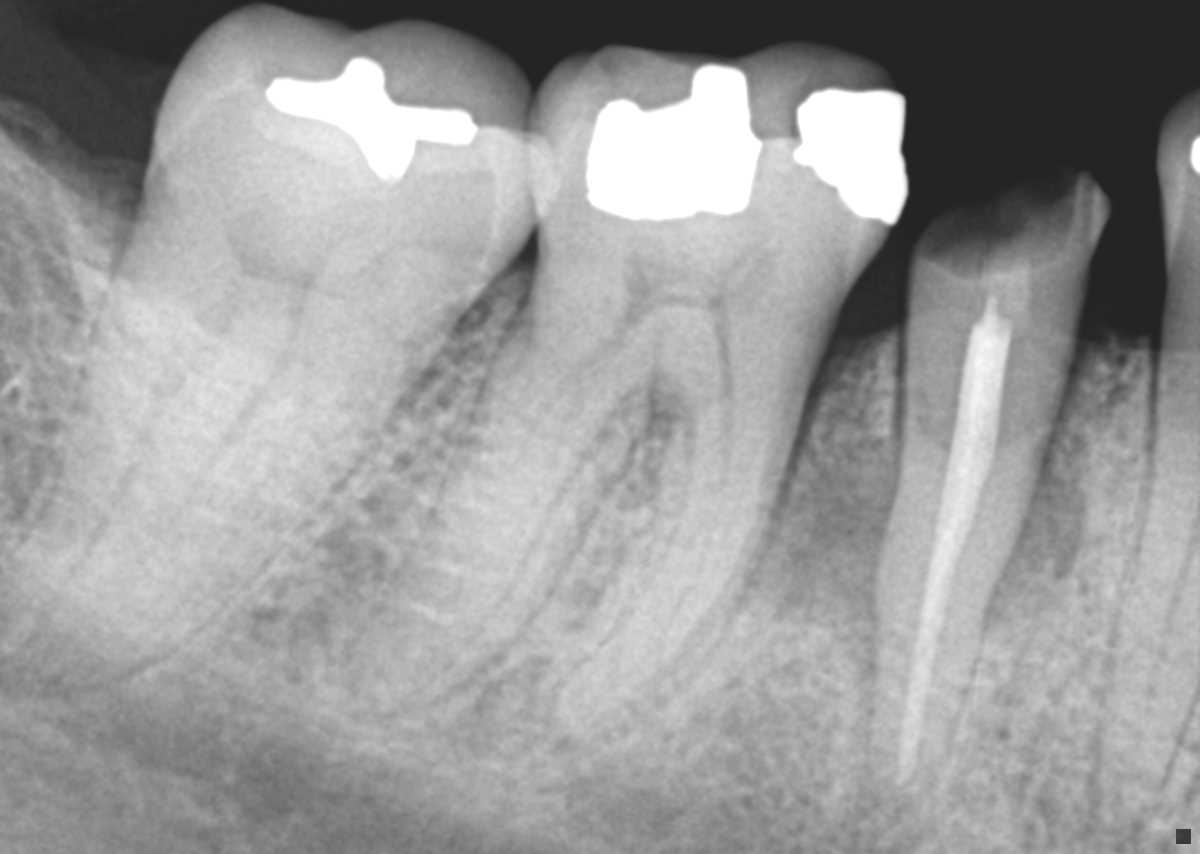Apical Lesion: (481, 658, 633, 779)
Distal Canal: (27, 272, 248, 648), (507, 331, 616, 470)
Distal Root: (336, 284, 655, 714)
Main Root: (0, 213, 438, 692), (865, 319, 1078, 811), (1100, 354, 1200, 831)
Mesial Canal: (81, 297, 298, 650), (699, 349, 734, 554)
Mesial Root: (550, 342, 812, 737)
Root Canal Filling: (897, 300, 1008, 790)
